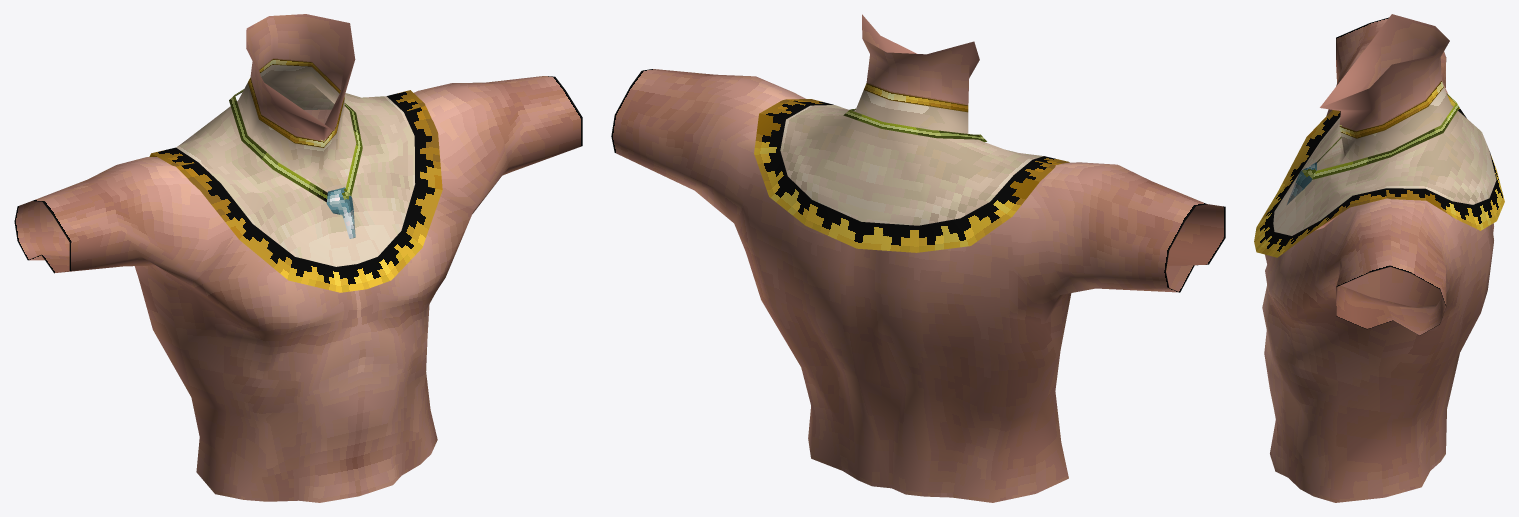
The model's file is m_body285.glb.
3 renders of one model, left to right at view 1: azimuth 30°, elevation 25°; view 2: azimuth 150°, elevation 25°; view 3: azimuth 270°, elevation 25°, orthographic. The views are drawn at different scales.
Bounding box in the file's own units: 70.67 × 54.73 × 30.01.
Materials: 1 (1 with a texture image).
